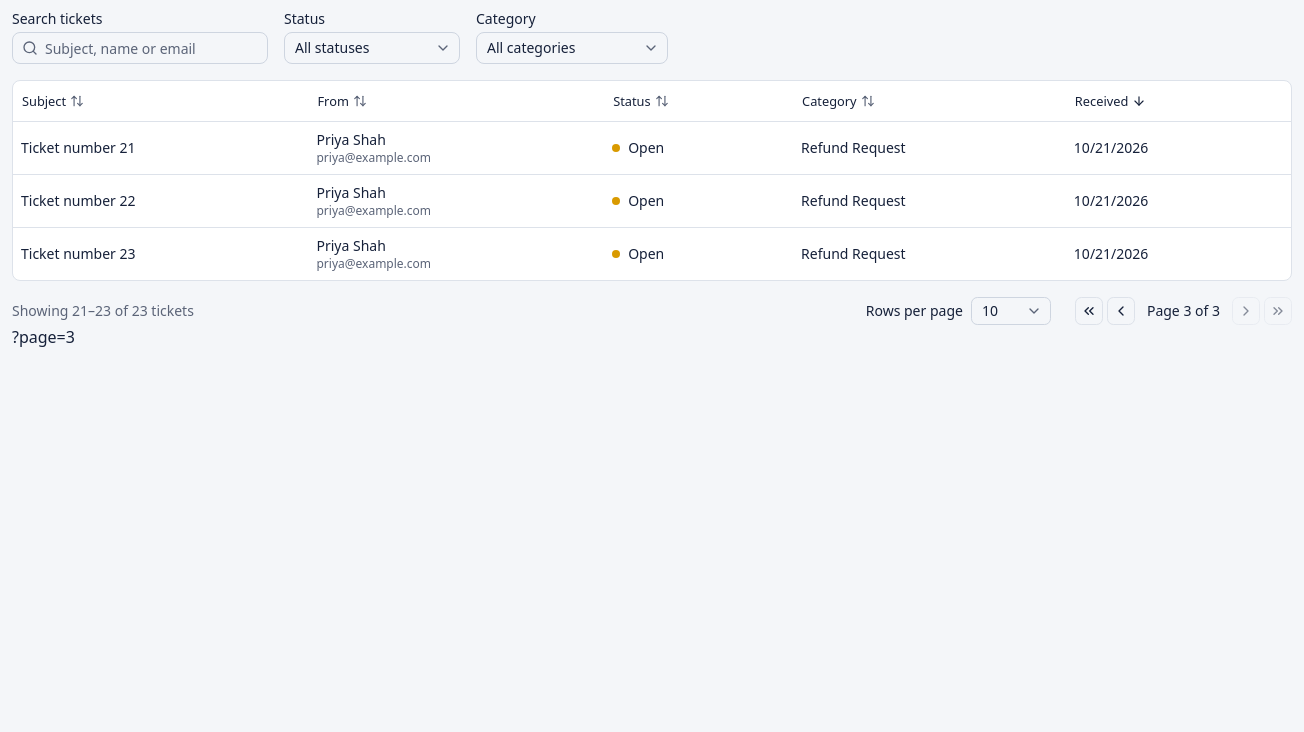
Test: TicketsTable › pagination › changing a filter goes back to page 1
Expected: the link "Ticket number 21" is shown, x1=21 y1=138 x2=136 y2=156
Click the dropdown labelled "status" at (372, 48), box x1=284 y1=32 x2=460 y2=64
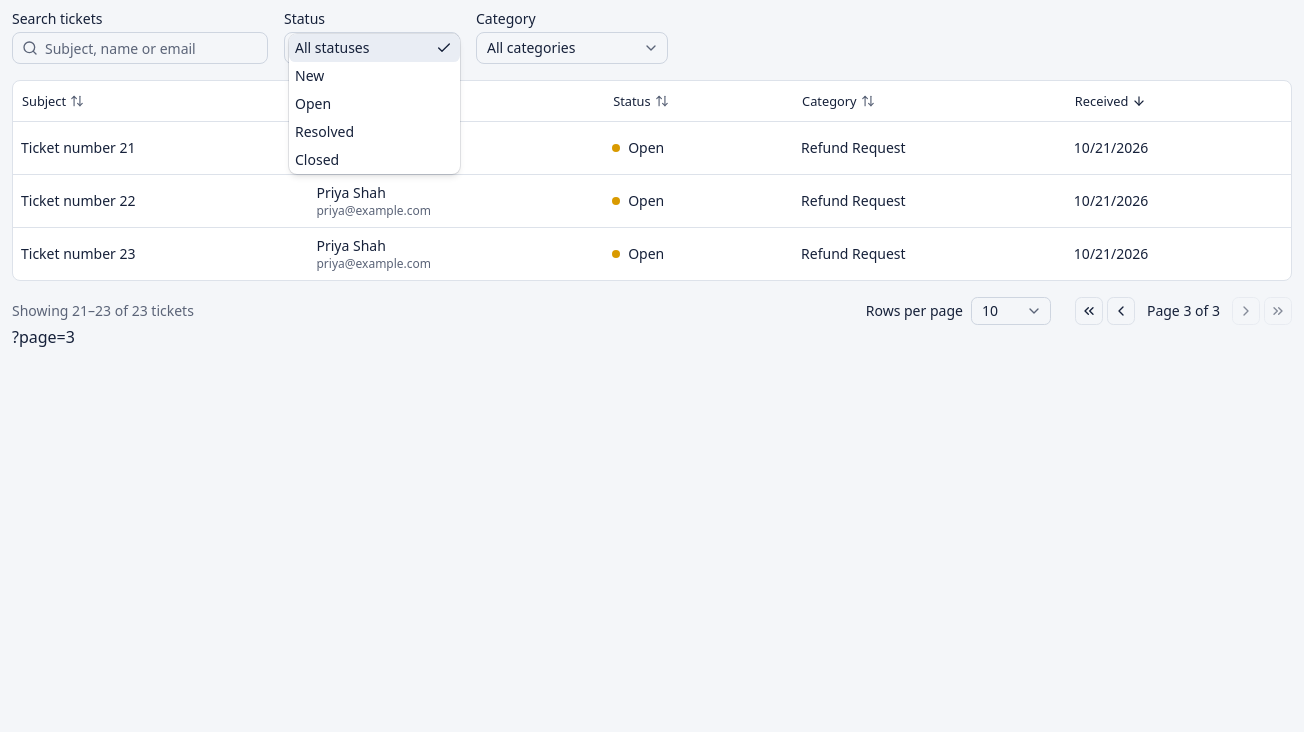
Click the option "Open" at (313, 104), box x1=295 y1=94 x2=331 y2=113
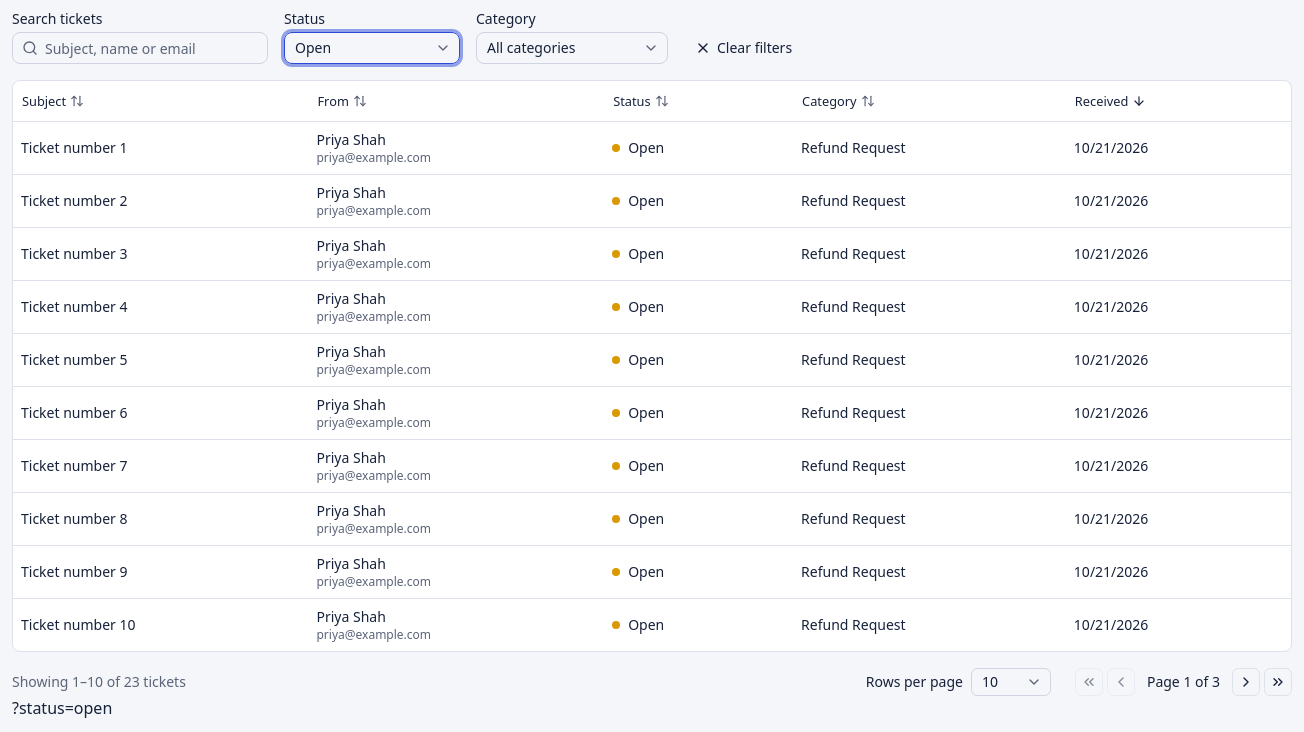
Now the text with test id "location-search" reads "?status=open", box x1=12 y1=696 x2=112 y2=718
Now the text with test id "location-search" no longer shows "page=", box x1=12 y1=696 x2=112 y2=718
